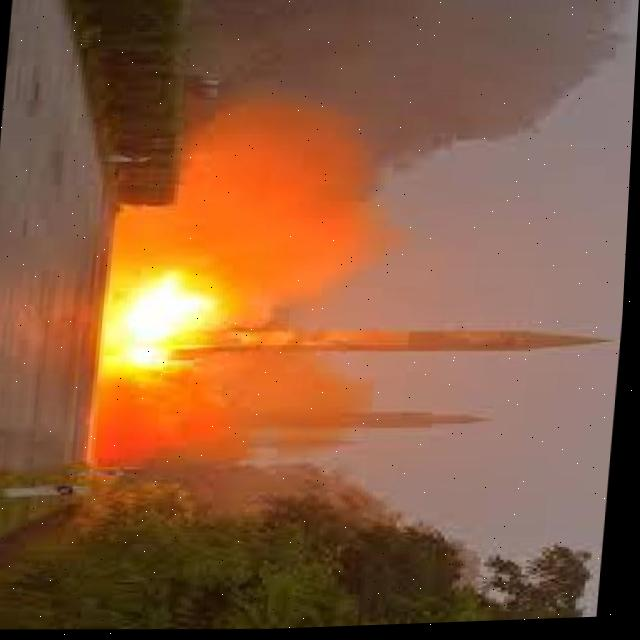missile: (165, 313, 622, 378), (240, 404, 492, 440)
